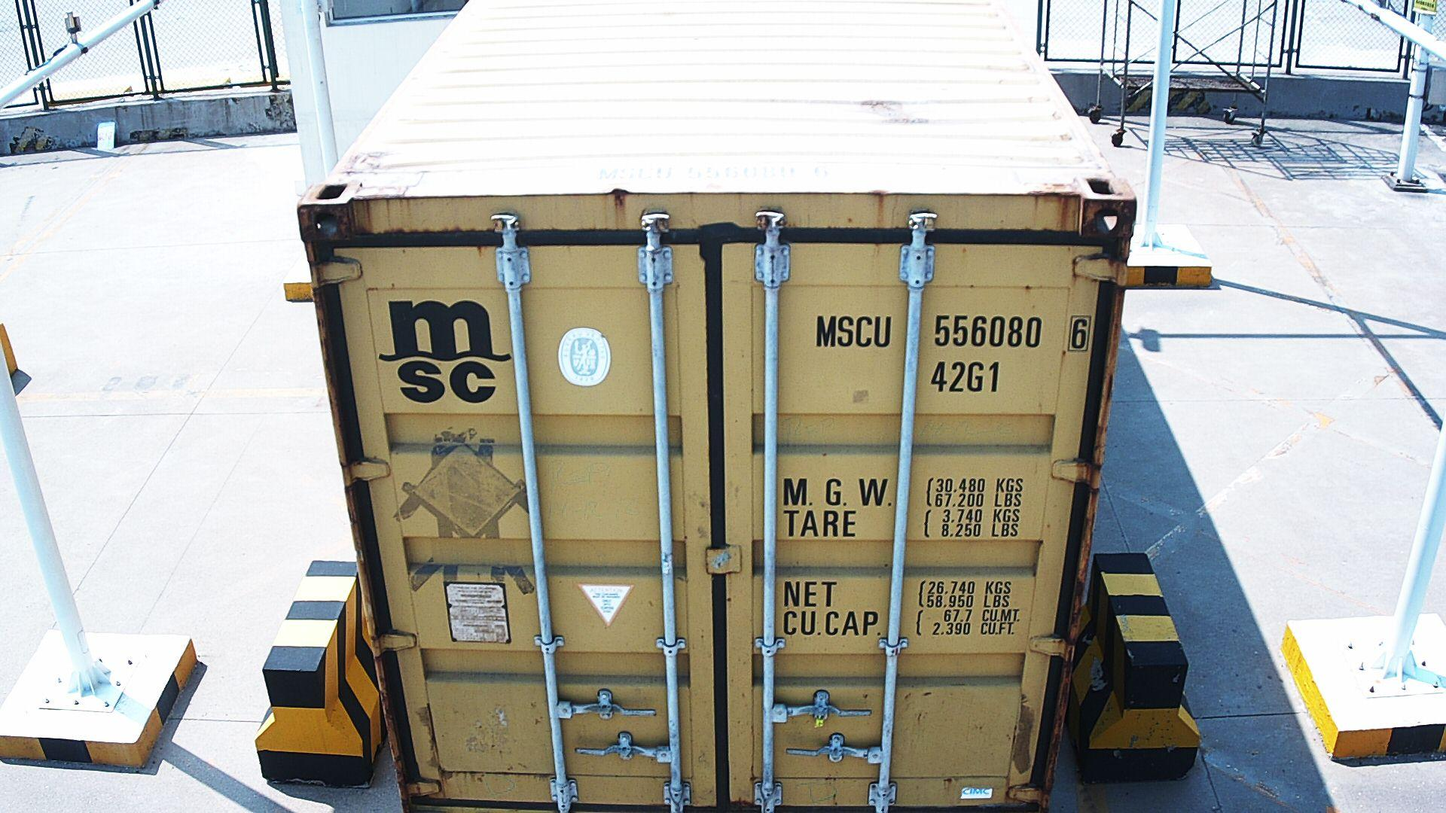container-numbers: (812, 310, 1098, 352), (592, 159, 836, 186), (926, 358, 1005, 397)
